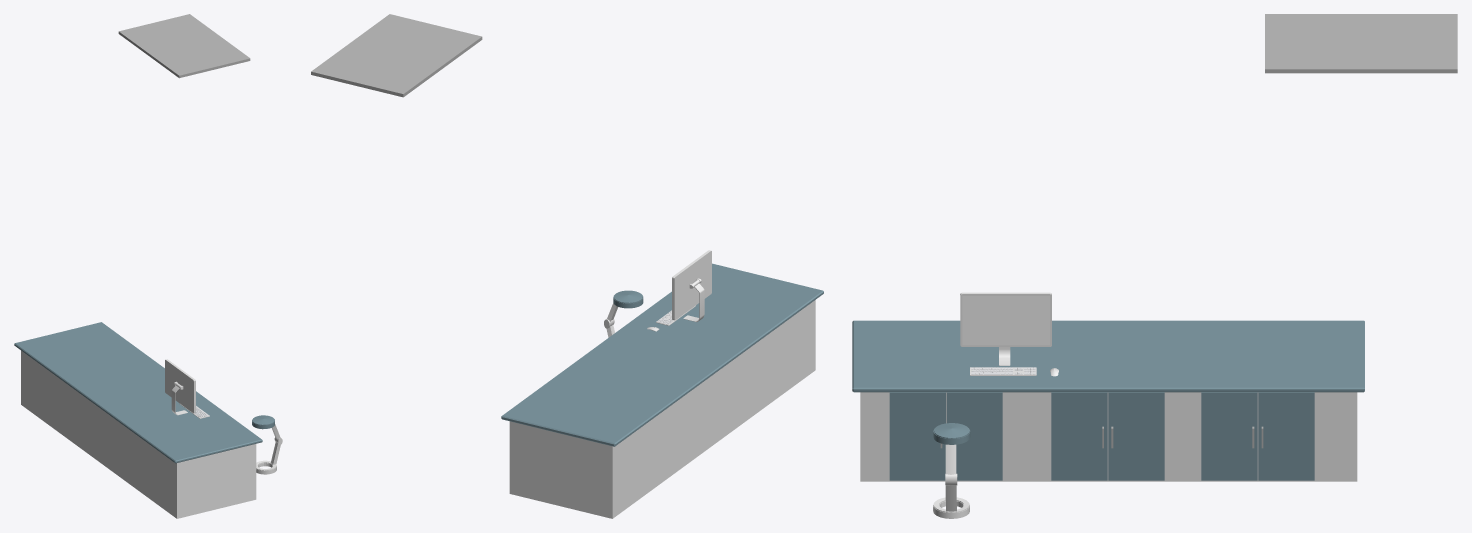
Rendered from lab_chemistry 1.fbx.
The picture shows the model from 3 angles, left to right: view 1: azimuth 30°, elevation 25°; view 2: azimuth 150°, elevation 25°; view 3: azimuth 270°, elevation 25°; orthographic projection. The views are drawn at different scales.
Visible parts, largest first — view 1: polySurface949, polySurface804, keyboard_2, polySurface1052; view 2: polySurface949, polySurface804, keyboard_2, polySurface1052; view 3: polySurface949, polySurface804, keyboard_2, polySurface1052.
Boxes of the visible parts, x1,y1,x2,y2 form: polySurface949: [14, 322, 262, 518]; polySurface804: [118, 14, 250, 78]; keyboard_2: [165, 359, 209, 418]; polySurface1052: [252, 415, 282, 474]; polySurface949: [501, 263, 823, 518]; polySurface804: [311, 14, 482, 97]; keyboard_2: [647, 250, 711, 331]; polySurface1052: [604, 290, 643, 337]; polySurface949: [852, 320, 1364, 481]; polySurface804: [1265, 14, 1457, 73]; keyboard_2: [960, 292, 1058, 376]; polySurface1052: [933, 423, 970, 518].
Bounding box in the file's own units: 313 × 466 × 504.
Materials: 6 (1 with a texture image).
